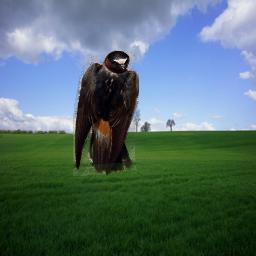Swallow: (73, 50, 139, 176)
